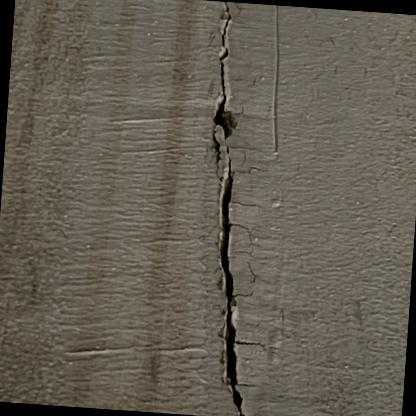crack: (210, 0, 245, 416)
